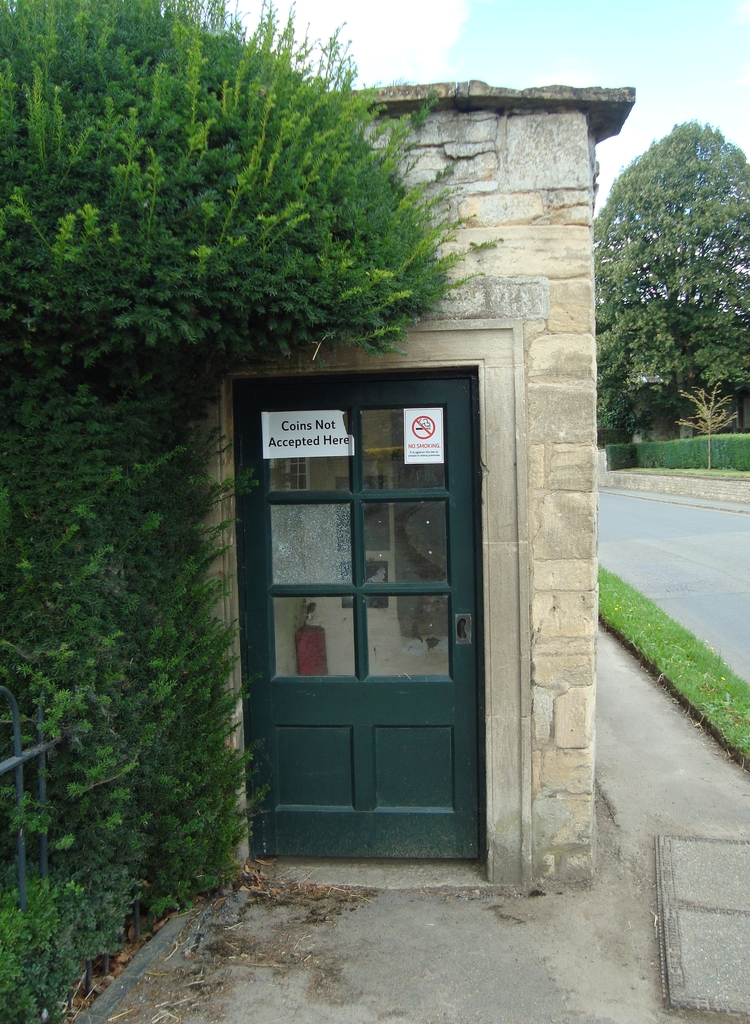door: (237, 387, 482, 875)
handle: (454, 604, 473, 646)
